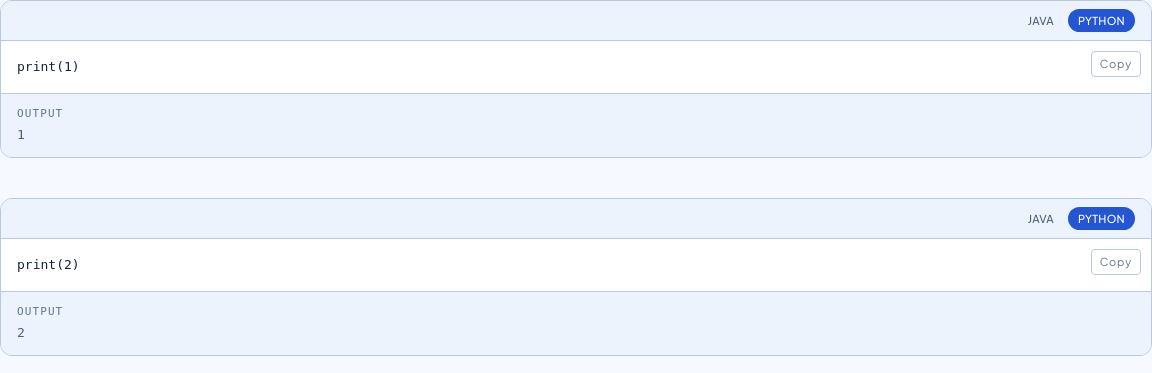
Test: code language switching across a page › switches every code block on the page together when one toggle is used
Clicking the FIRST block's Java toggle switches the second block too.
What coordinates should you click on to do the following:
click the 1st button "Java"
I would click on:
 (1041, 21)
Its box is [1018,9,1064,32].
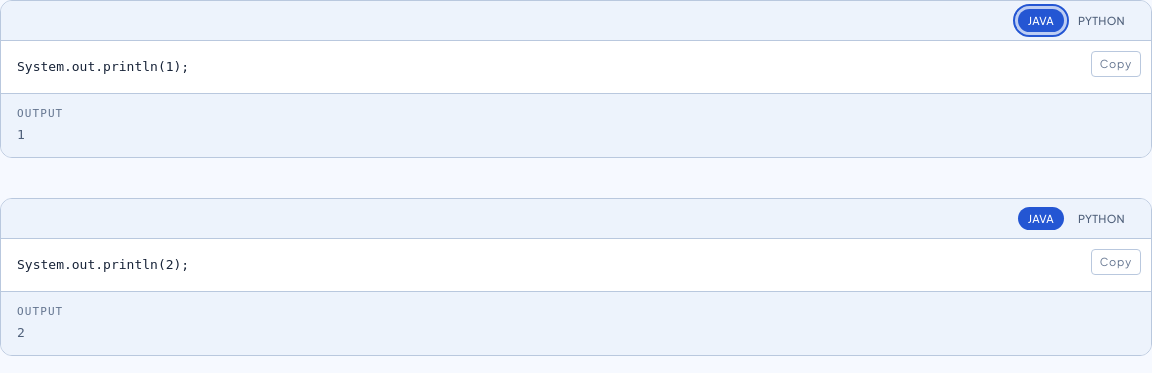
Result: the text "System.out.println(1);" is shown at [17,59,189,74]
Result: the text "System.out.println(2);" is shown at [17,257,189,272]
Result: the text "print(1)" is gone
